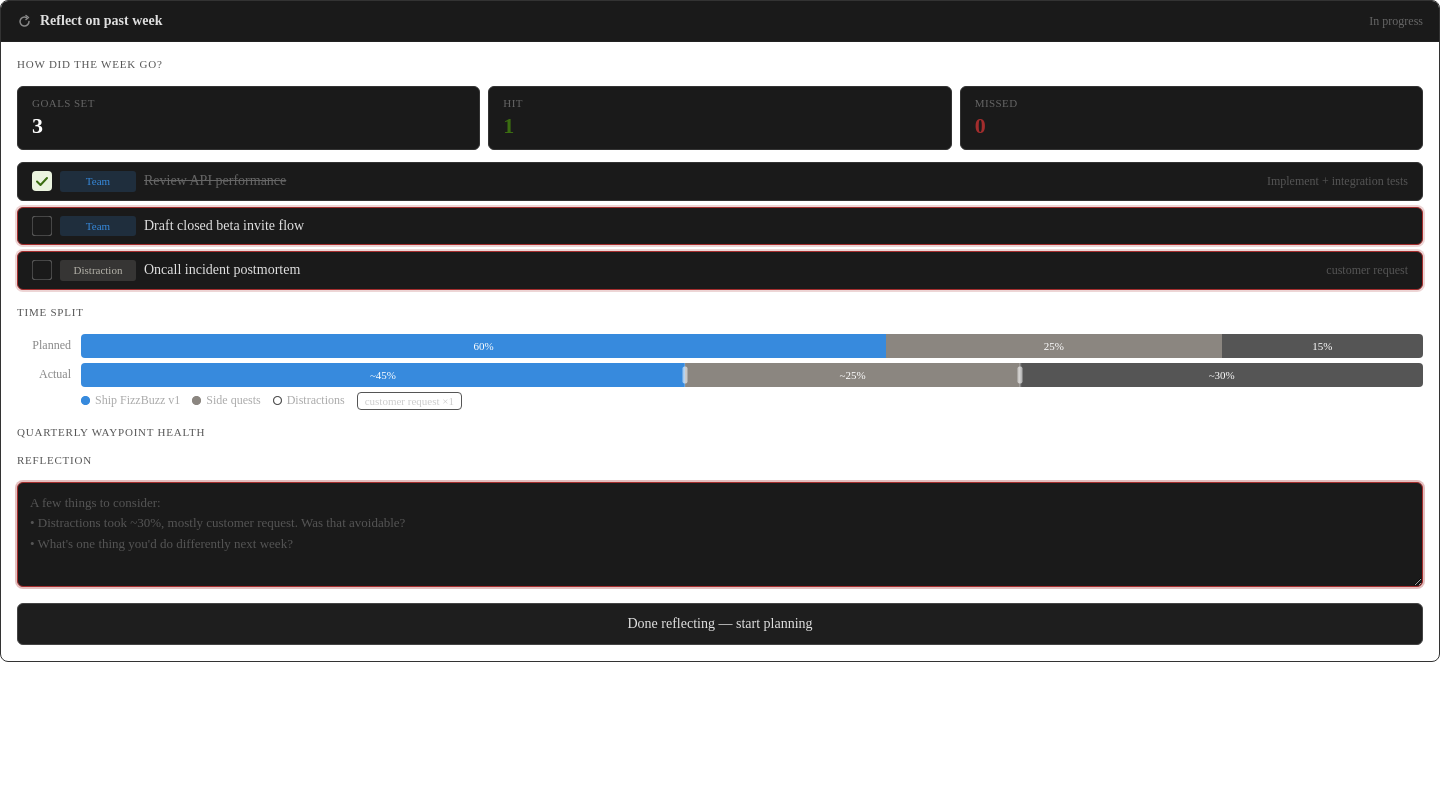
Scenario: ReflectSection › Done reflecting blocked when notes empty
Click the button named "Toggle outcome" in the row of "Draft closed beta invite flow".
click(42, 226)  # box [32,216,52,236]
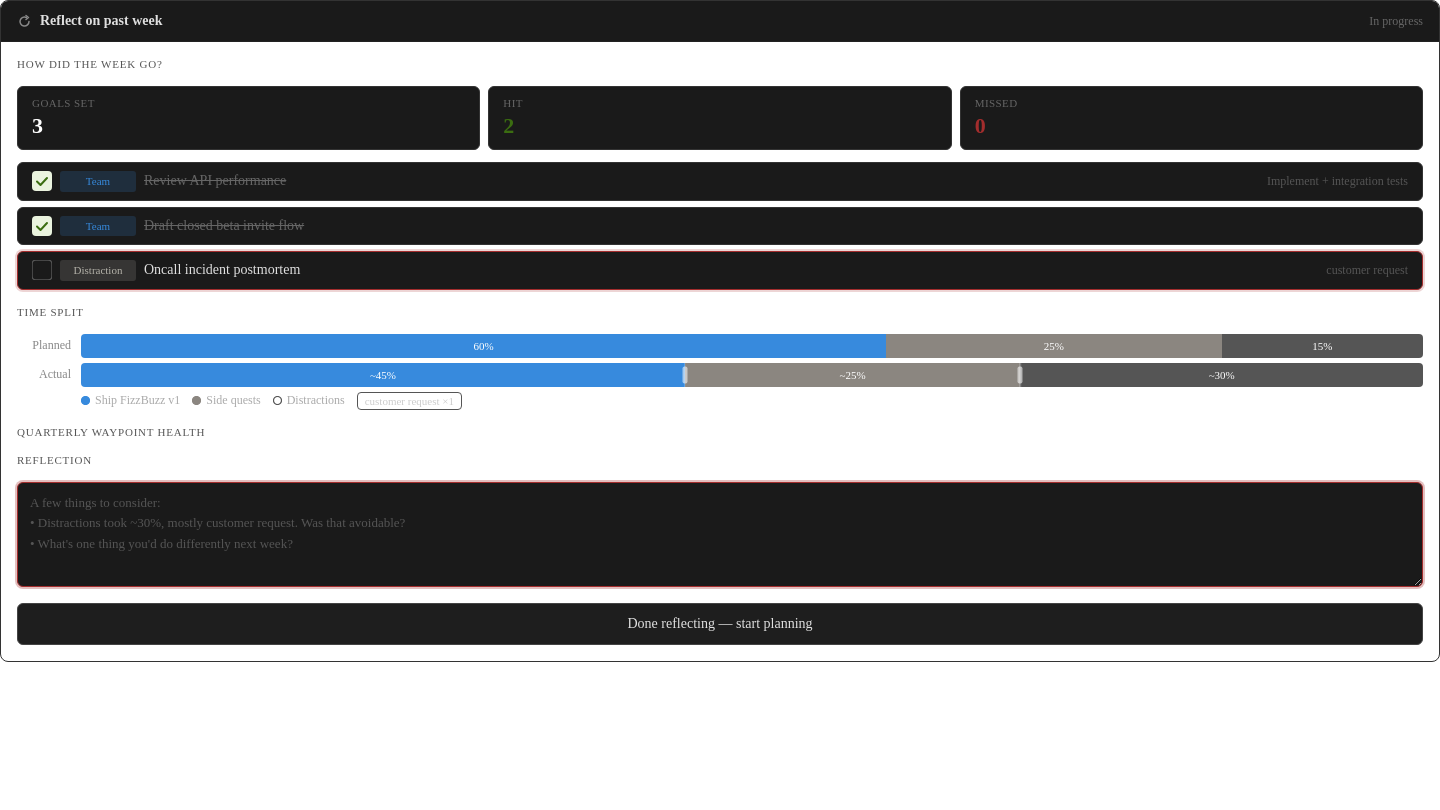
Click the button named "Toggle outcome" in the row of "Oncall incident postmortem".
click(42, 270)  # box [32,260,52,280]
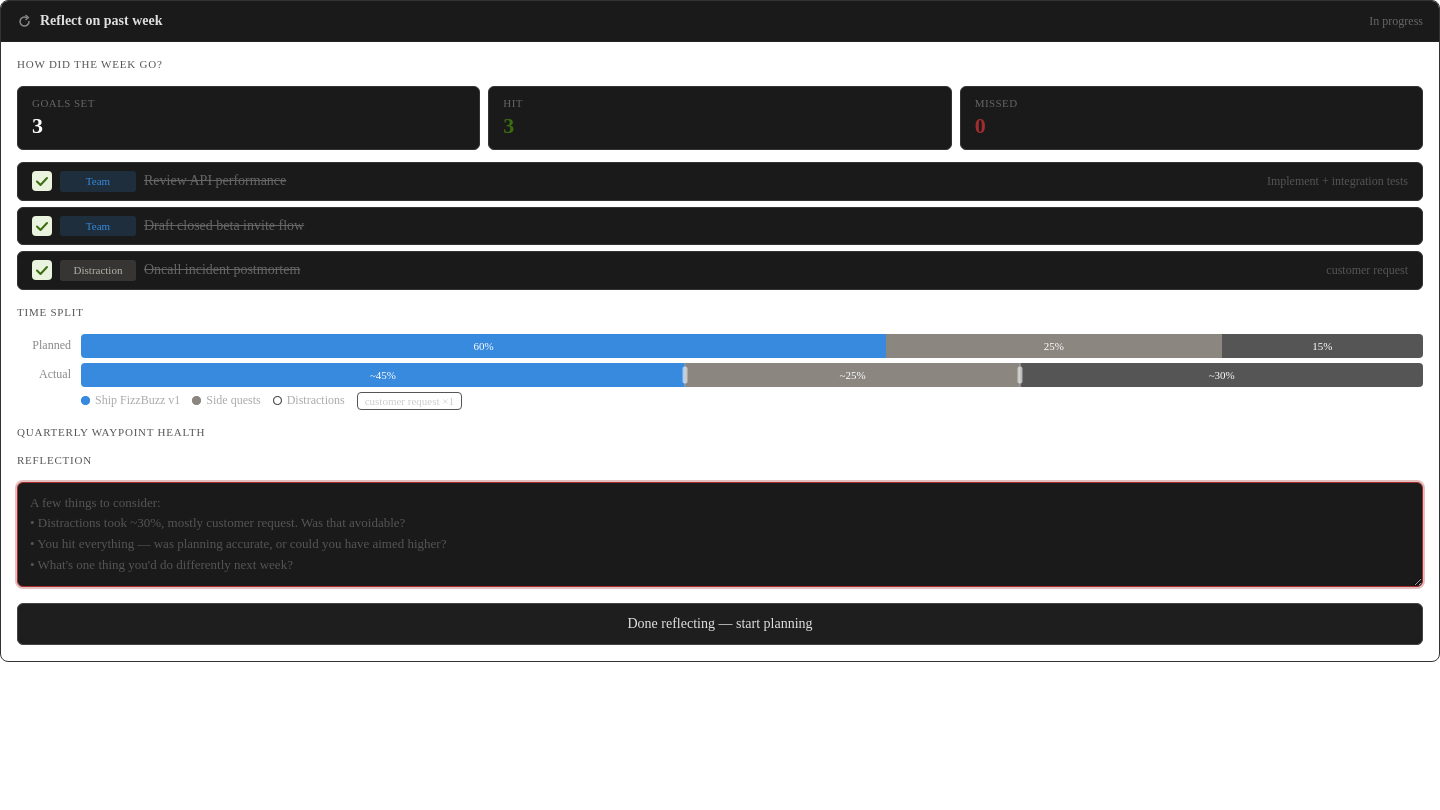
Click the button "Done reflecting — start planning".
click(720, 624)  # box [17,603,1423,645]
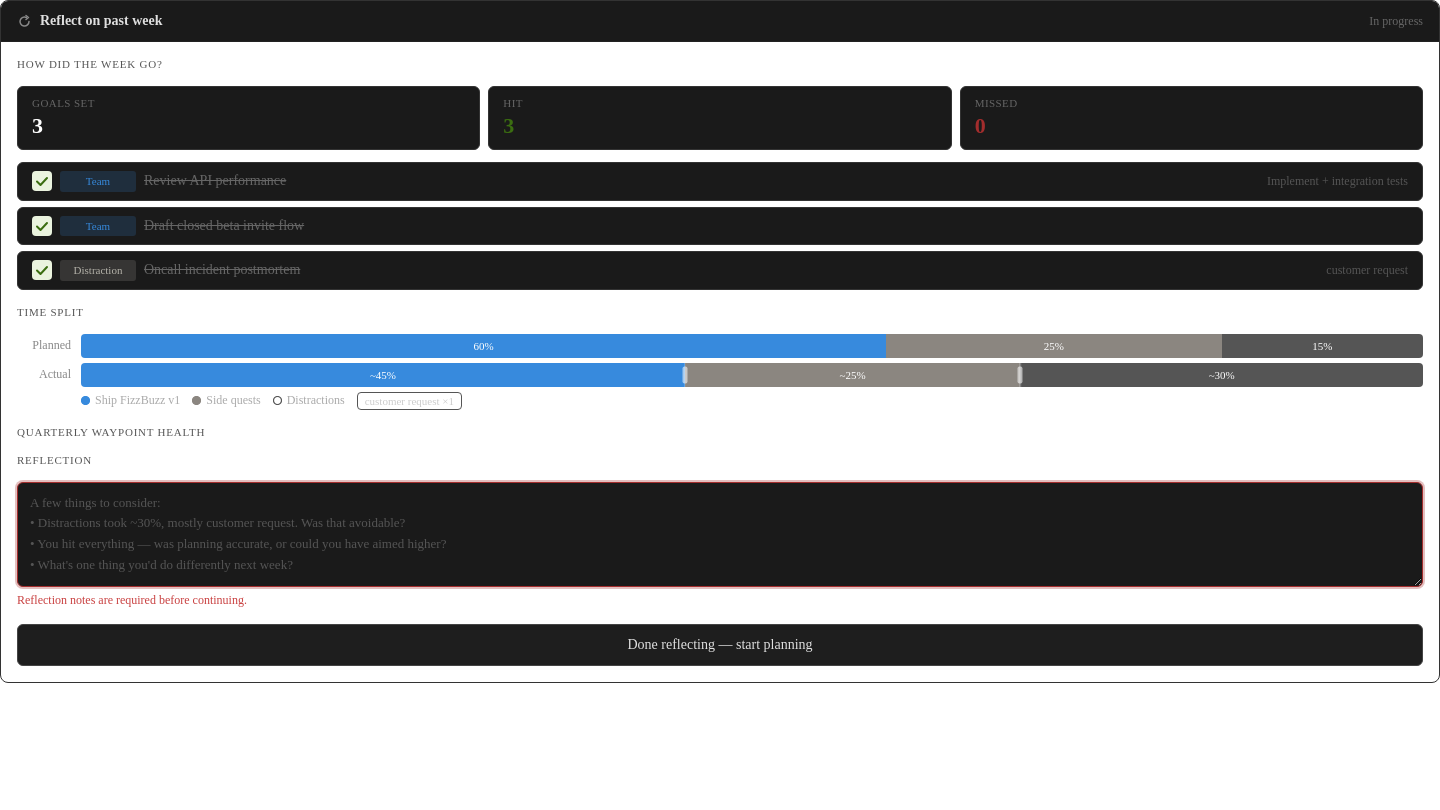
Expected: the text "Reflection notes are required before continuing." is shown, [17,593,247,607]
